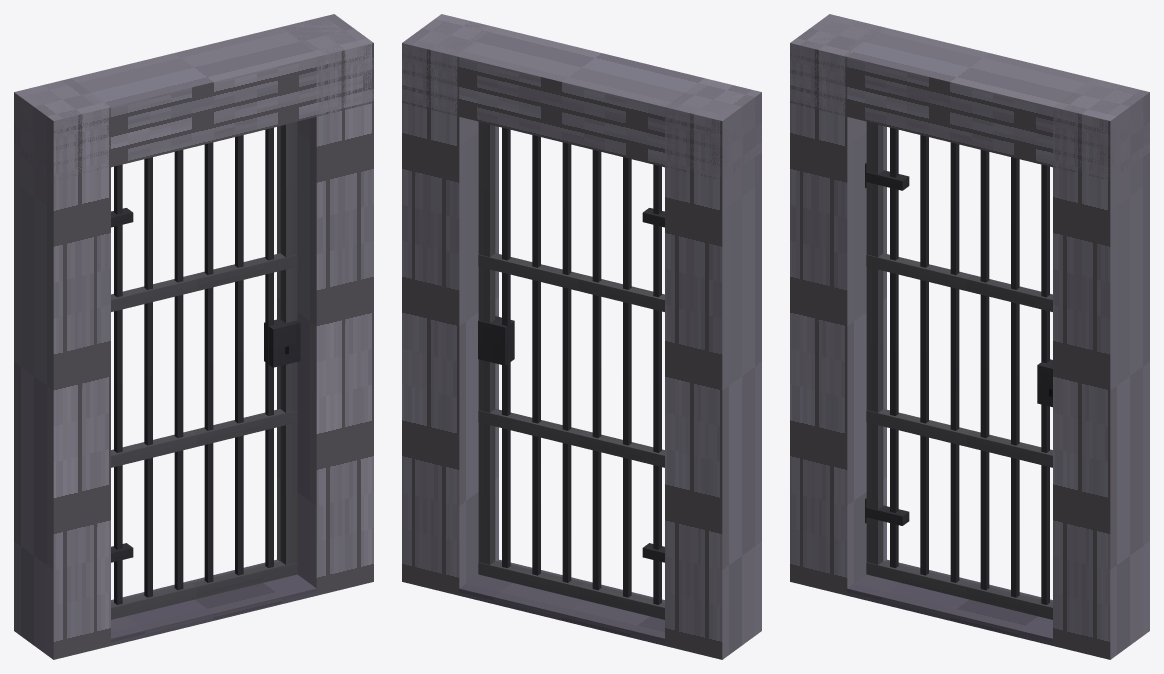
Rendered from cell-door-barred.glb.
3 renders of one model, left to right at view 1: azimuth 30°, elevation 25°; view 2: azimuth 150°, elevation 25°; view 3: azimuth 330°, elevation 25°, orthographic.
Visible parts, largest first — view 1: frame, door; view 2: frame, door; view 3: frame, door.
Part boxes in pixels (x1,y1,x2,y2): frame: (14, 14, 373, 659); door: (111, 121, 300, 619); frame: (402, 14, 761, 659); door: (478, 121, 664, 619); frame: (790, 14, 1149, 659); door: (865, 121, 1052, 619).
Size of the model in its own units: 1.4 by 2.25 by 0.3.
Materials: 1 (1 with a texture image).
